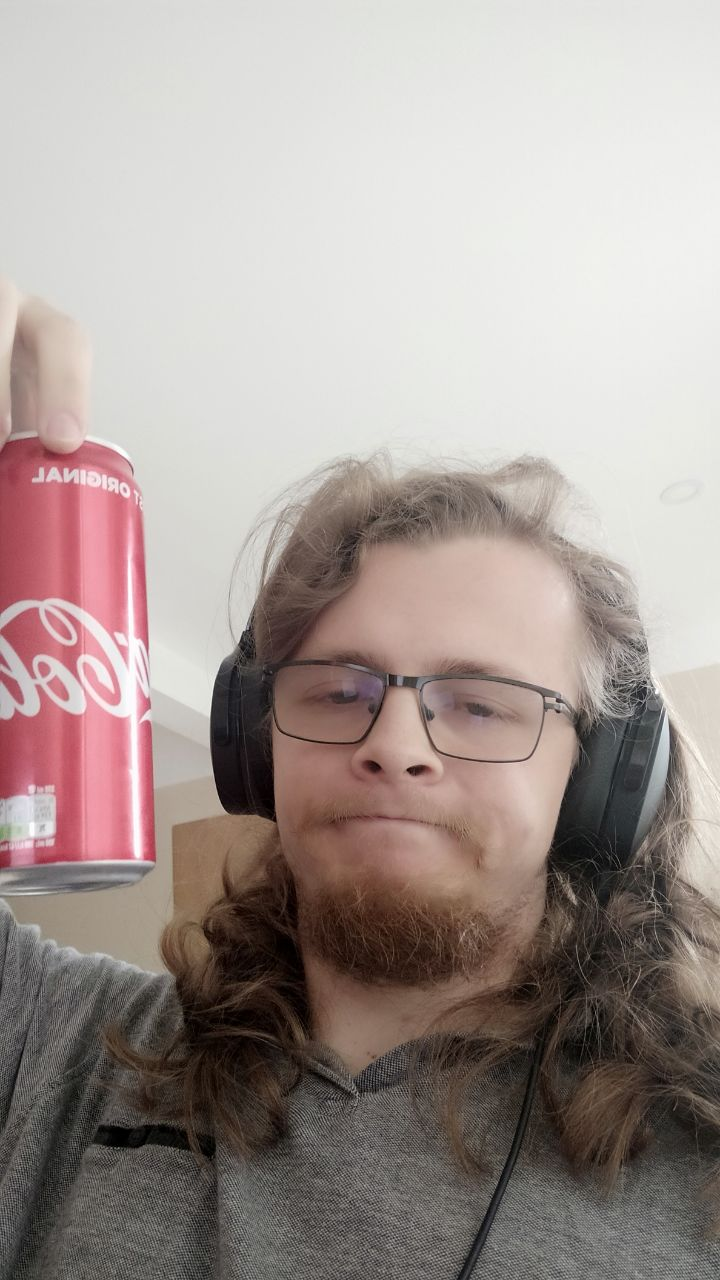Can: (1, 436, 161, 903)
